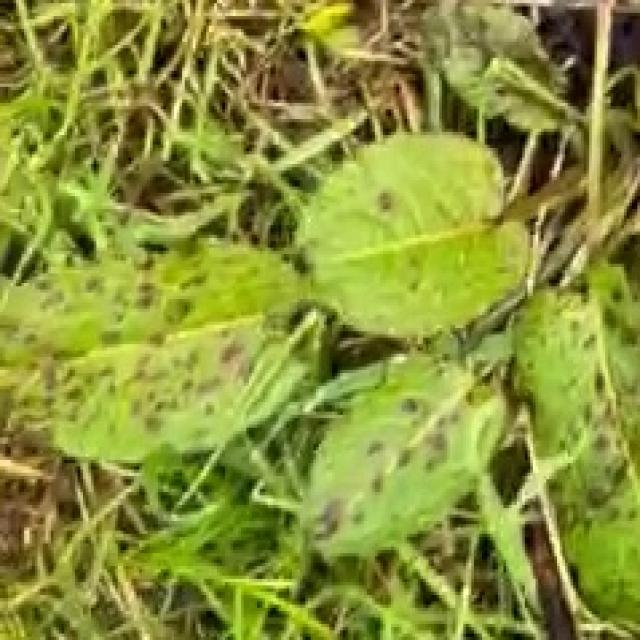organic waste: (15, 81, 640, 571)
